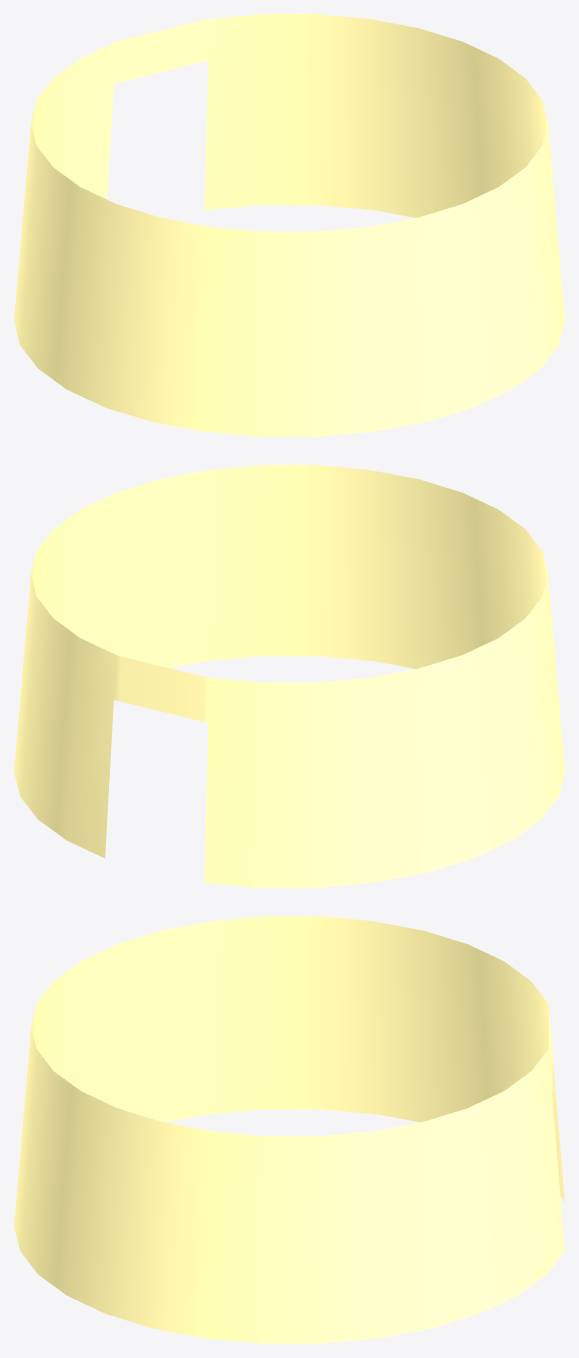
File: wall3.glb
The picture shows the model from 3 angles, top to bottom: view 1: azimuth 30°, elevation 25°; view 2: azimuth 150°, elevation 25°; view 3: azimuth 270°, elevation 25°; orthographic projection.
Parts seen in each view (by area): view 1: wall3; view 2: wall3; view 3: wall3.
Part boxes in pixels (x1,y1,x2,y2): wall3: [14, 14, 564, 436]; wall3: [14, 465, 564, 887]; wall3: [14, 916, 564, 1343].
Size of the model in its own units: 20.09 by 8.02 by 19.98.
